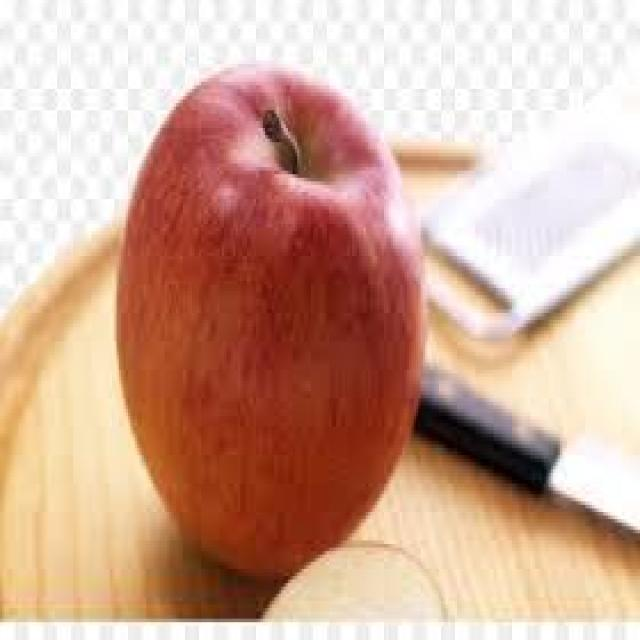maca: (112, 57, 427, 583)
